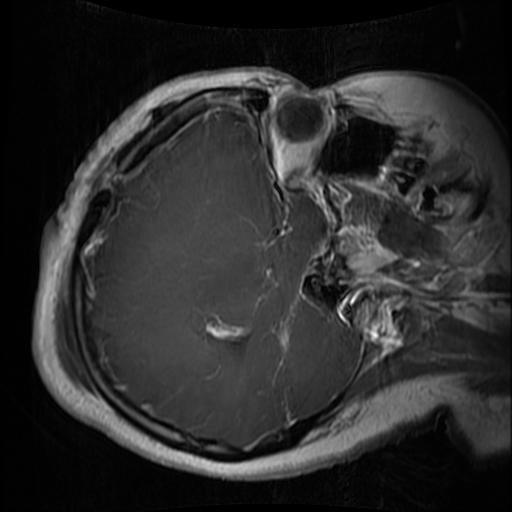glioma: (204, 314, 252, 343)
